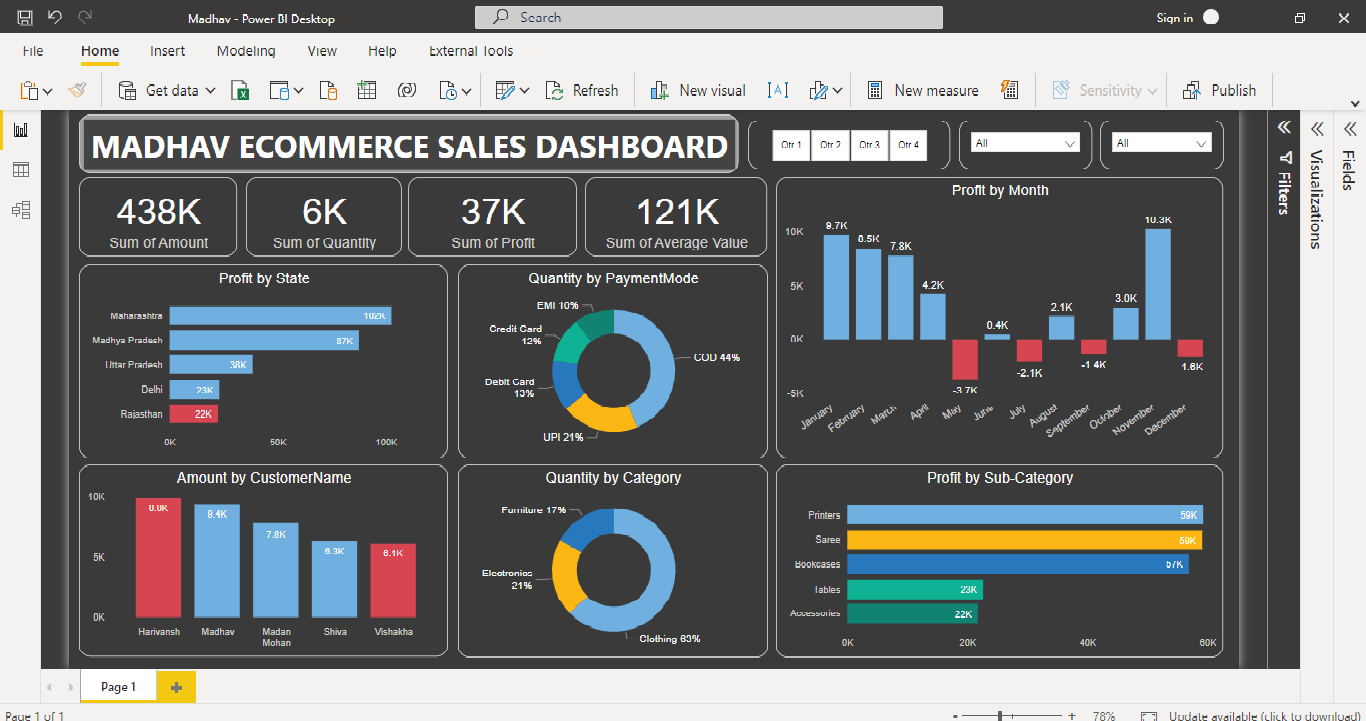

This screenshot's page, from the dashboard's own definition file:
{"tool":"powerbi","page":{"name":"Page 1","canvas":[1510,720],"ordinal":0},"visuals":[{"type":"shape","box":[13,5.8,851,76.3],"z":0},{"type":"clusteredColumnChart","fields":{"Y":["Details.Profit"],"Category":["Orders.Order Date.Variation.Date Hierarchy.Month"]},"box":[912.8,86.5,576.9,361.4],"z":1000},{"type":"barChart","title":"Profit by Sub-Category","fields":{"Y":["Details.Amount"],"Category":["Details.Sub-Category"]},"box":[912.8,456.4,576.9,249.4],"z":2000},{"type":"donutChart","fields":{"Y":["Details.Quantity"],"Category":["Details.Category"]},"box":[501.7,456.4,399.7,249.4],"z":3000},{"type":"donutChart","fields":{"Y":["Details.Quantity"],"Category":["Details.PaymentMode"]},"box":[501.7,199.8,399.7,248],"z":4000},{"type":"card","fields":{"Values":["Details.Amount"]},"box":[12.8,86.5,204.1,102],"z":5000},{"type":"card","fields":{"Values":["Details.Quantity"]},"box":[228.2,86.5,201.3,102],"z":6000},{"type":"card","fields":{"Values":["Details.Profit"]},"box":[438,86.5,218.3,102],"z":7000},{"type":"card","fields":{"Values":["Details.Avg of Value"]},"box":[666.1,86.5,235.3,102],"z":8000},{"type":"barChart","title":"Profit by State","fields":{"Category":["Orders.State"],"Y":["Details.Amount"]},"box":[12.8,199.8,476.2,248],"z":9000},{"type":"columnChart","fields":{"Category":["Orders.CustomerName"],"Y":["Details.Amount"]},"box":[12.8,456.4,476.2,248],"z":10000},{"type":"slicer","fields":{"Values":["Orders.Order Date.Variation.Date Hierarchy.Quarter"]},"box":[875.8,12.9,261.3,62.9],"z":11000},{"type":"slicer","fields":{"Values":["Orders.City"]},"box":[1330.6,12.9,159.7,62.9],"z":12000},{"type":"slicer","fields":{"Values":["Details.Category"]},"box":[1147.9,13,172.1,63.3],"z":13000}]}

Visuals, with their boxes on the page's 1510x720 design canvas (x1, y1, x2, y2). These are canvas units, not pixel positions in the 1366x721 screenshot, which may show the page scaled, cropped or inside an application window:
shape: (left=13, top=6, right=864, bottom=82)
clusteredColumnChart - Details.Profit x Orders.Order Date.Variation.Date Hierarchy.Month: (left=913, top=86, right=1490, bottom=448)
"Profit by Sub-Category" barChart: (left=913, top=456, right=1490, bottom=706)
donutChart - Details.Quantity x Details.Category: (left=502, top=456, right=901, bottom=706)
donutChart - Details.Quantity x Details.PaymentMode: (left=502, top=200, right=901, bottom=448)
card - Details.Amount: (left=13, top=86, right=217, bottom=188)
card - Details.Quantity: (left=228, top=86, right=430, bottom=188)
card - Details.Profit: (left=438, top=86, right=656, bottom=188)
card - Details.Avg of Value: (left=666, top=86, right=901, bottom=188)
"Profit by State" barChart: (left=13, top=200, right=489, bottom=448)
columnChart - Orders.CustomerName x Details.Amount: (left=13, top=456, right=489, bottom=704)
slicer - Orders.Order Date.Variation.Date Hierarchy.Quarter: (left=876, top=13, right=1137, bottom=76)
slicer - Orders.City: (left=1331, top=13, right=1490, bottom=76)
slicer - Details.Category: (left=1148, top=13, right=1320, bottom=76)
